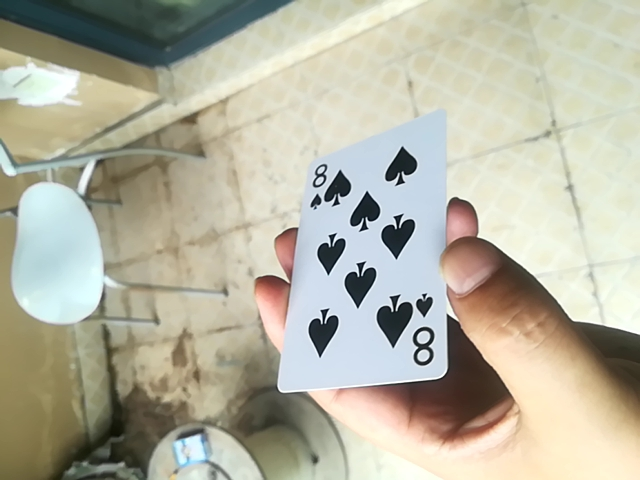ht 8: (280, 106, 453, 389)
